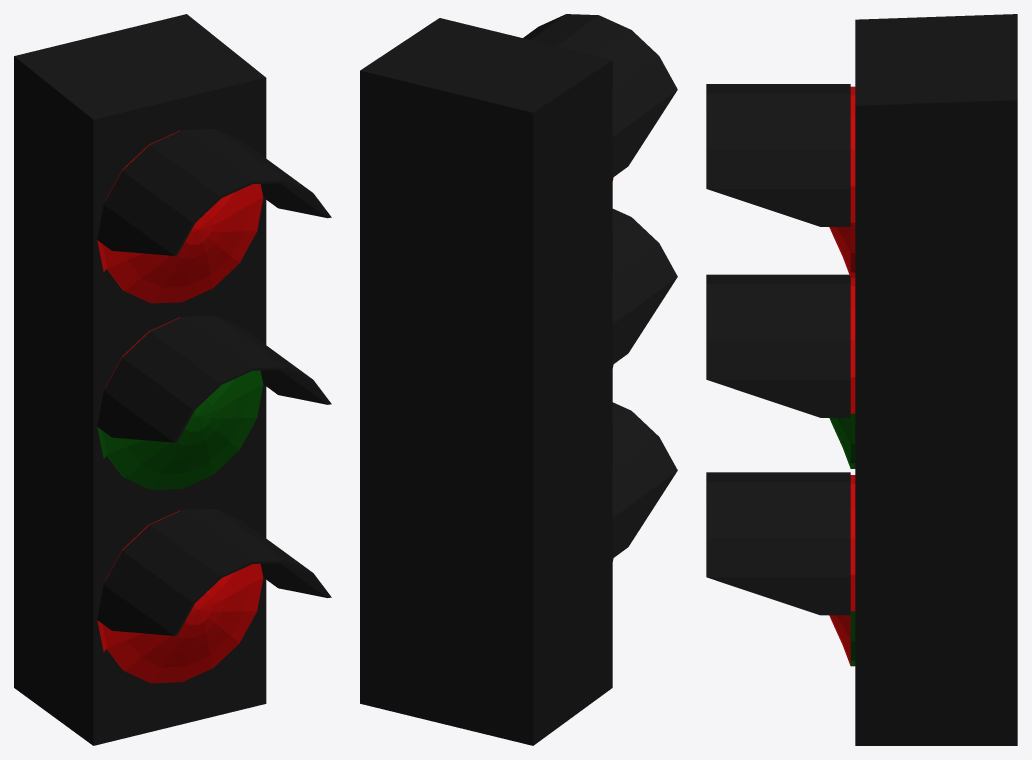
Rendered from BoatLight.obj.
The picture shows the model from 3 angles, left to right: view 1: azimuth 30°, elevation 25°; view 2: azimuth 150°, elevation 25°; view 3: azimuth 270°, elevation 25°; orthographic projection. The views are drawn at different scales.
Visible parts, largest first — view 1: Light.004_Cube.008; view 2: Light.004_Cube.008; view 3: Light.004_Cube.008.
Part boxes in pixels (left/top/right/bottom): Light.004_Cube.008: left=14, top=14, right=331, bottom=745; Light.004_Cube.008: left=360, top=14, right=677, bottom=745; Light.004_Cube.008: left=706, top=14, right=1017, bottom=745.
Bounding box in the file's own units: 0.3641 × 1.27 × 0.556.
